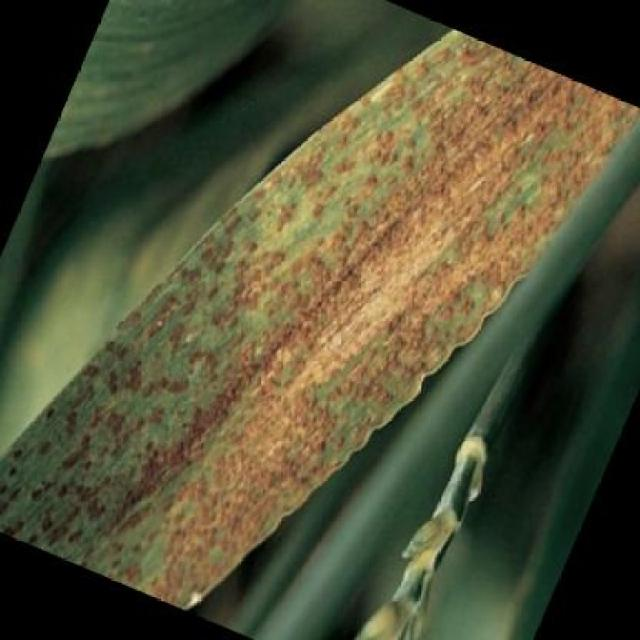Corn_Rust: (98, 71, 544, 572)
